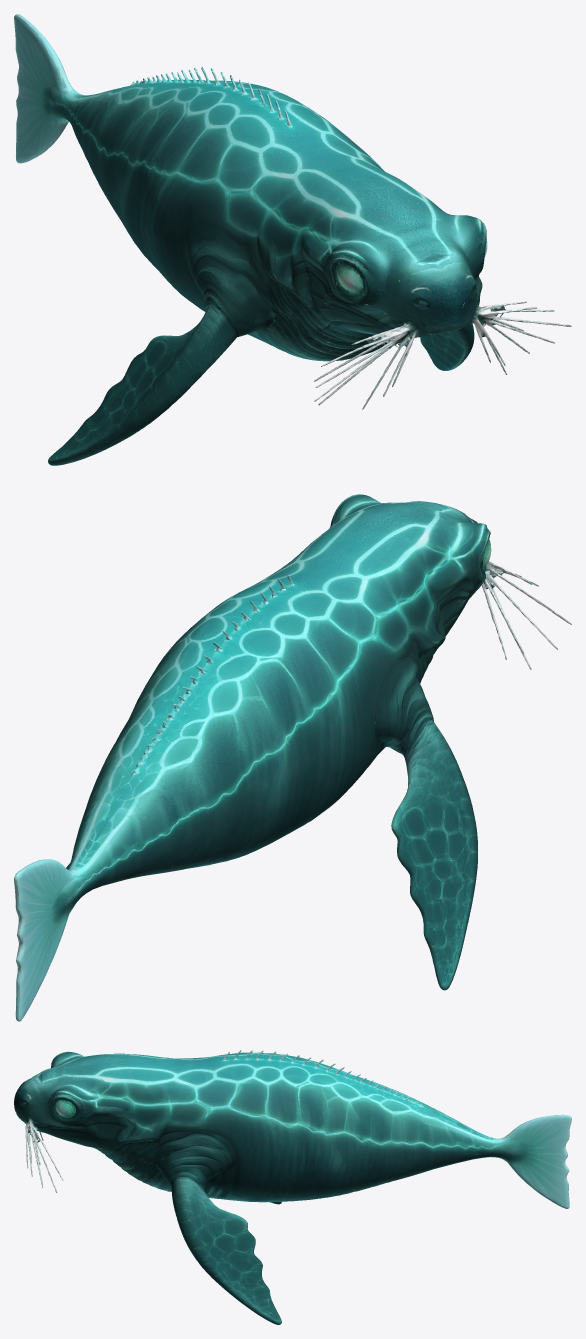
File: harbor_seal.glb
3 views of the same model, one above another, from view 1: azimuth 30°, elevation 25°; view 2: azimuth 150°, elevation 25°; view 3: azimuth 270°, elevation 25° (orthographic). The views are drawn at different scales.
Size of the model in its own units: 0.9867 by 0.8049 by 1.9.
1 material, 1 textured.
